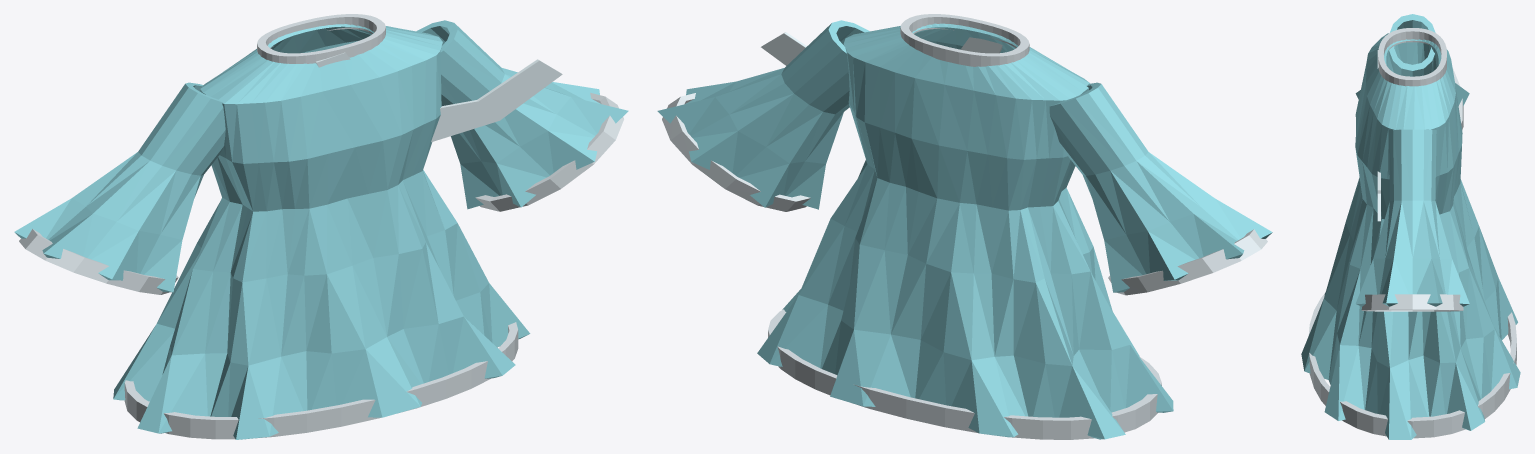
Rendered from wind_robe.obj.
3 views of the same model, side by side, from view 1: azimuth 30°, elevation 25°; view 2: azimuth 150°, elevation 25°; view 3: azimuth 270°, elevation 25° (orthographic). The views are drawn at different scales.
Parts seen in each view (by area): view 1: A_Body.001_wind_robe_cloth, C_Sleeve.001_wind_robe_cloth, D_HemTrim.001_wind_robe_trim, C_Cuff.001_wind_robe_trim, F_Scarf.001_wind_robe_scarf, D_NeckTrim.001_wind_robe_trim; view 2: A_Body.001_wind_robe_cloth, C_Sleeve.001_wind_robe_cloth, D_HemTrim.001_wind_robe_trim, C_Cuff.001_wind_robe_trim, D_NeckTrim.001_wind_robe_trim, F_Scarf.001_wind_robe_scarf; view 3: A_Body.001_wind_robe_cloth, C_Sleeve.001_wind_robe_cloth, D_HemTrim.001_wind_robe_trim, D_NeckTrim.001_wind_robe_trim, C_Cuff.001_wind_robe_trim, F_Scarf.001_wind_robe_scarf.
Part boxes in pixels (x1,y1,x2,y2): A_Body.001_wind_robe_cloth: [113, 24, 530, 439]; C_Sleeve.001_wind_robe_cloth: [14, 20, 628, 292]; D_HemTrim.001_wind_robe_trim: [124, 322, 518, 439]; C_Cuff.001_wind_robe_trim: [19, 92, 623, 294]; F_Scarf.001_wind_robe_scarf: [315, 52, 562, 142]; D_NeckTrim.001_wind_robe_trim: [257, 14, 385, 63]; A_Body.001_wind_robe_cloth: [757, 23, 1173, 439]; C_Sleeve.001_wind_robe_cloth: [657, 20, 1272, 292]; D_HemTrim.001_wind_robe_trim: [768, 309, 1161, 439]; C_Cuff.001_wind_robe_trim: [662, 93, 1267, 295]; D_NeckTrim.001_wind_robe_trim: [900, 14, 1029, 66]; F_Scarf.001_wind_robe_scarf: [761, 32, 1002, 65]; A_Body.001_wind_robe_cloth: [1301, 33, 1520, 439]; C_Sleeve.001_wind_robe_cloth: [1355, 14, 1469, 306]; D_HemTrim.001_wind_robe_trim: [1308, 294, 1516, 438]; D_NeckTrim.001_wind_robe_trim: [1378, 28, 1446, 86]; C_Cuff.001_wind_robe_trim: [1361, 68, 1463, 311]; F_Scarf.001_wind_robe_scarf: [1377, 50, 1380, 221].
Size of the model in its own units: 4.67 by 2.57 by 1.68.
